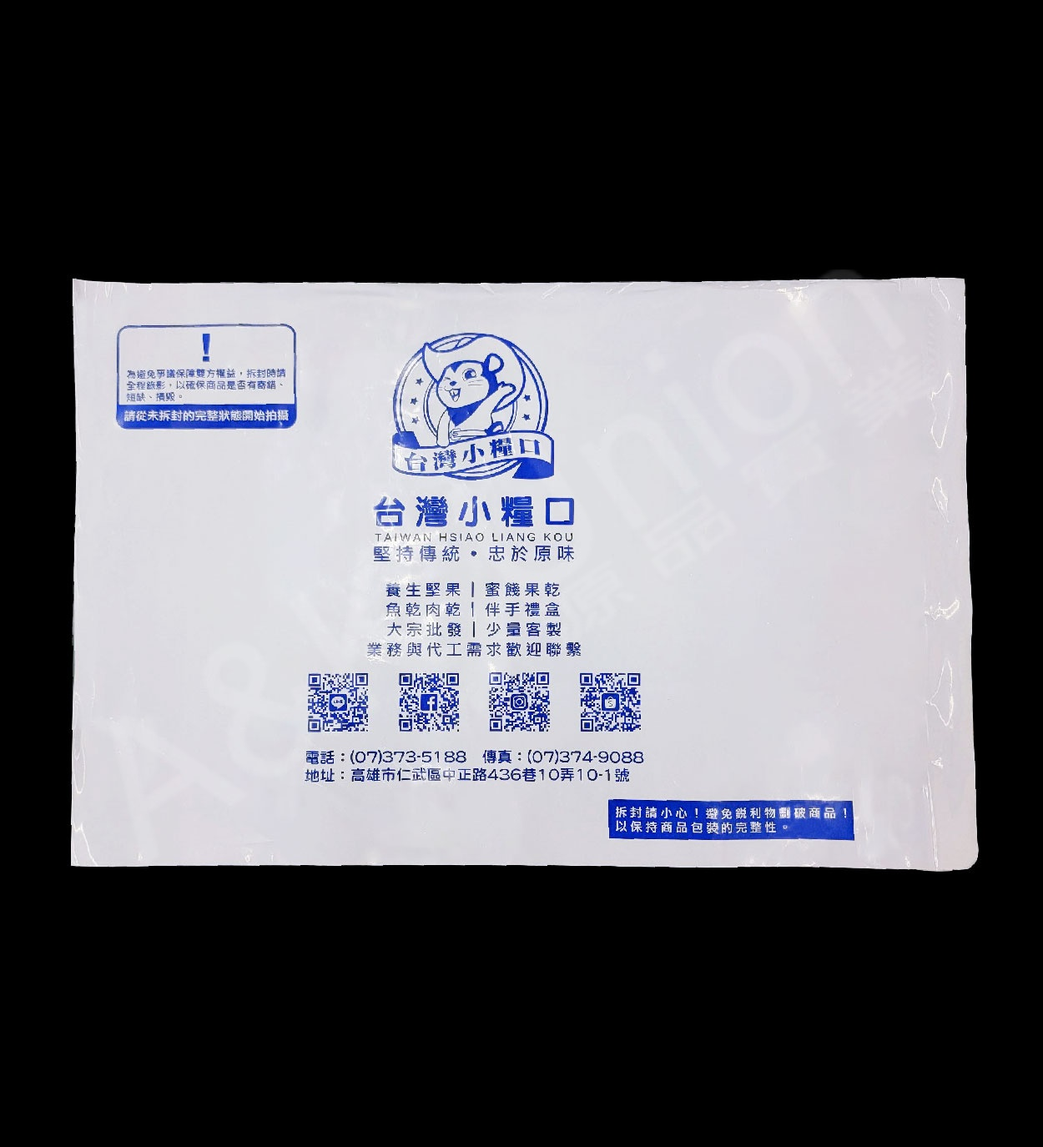塑料袋: (72, 279, 977, 870)
